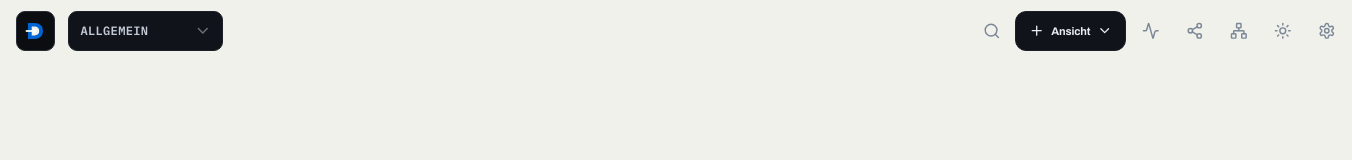
Test: GlobalSearch collapsible search bar › shows the scope filter only while the bar is expanded
Click the button with id "global-search-toggle" at [992, 31], box [972,11,1012,51]
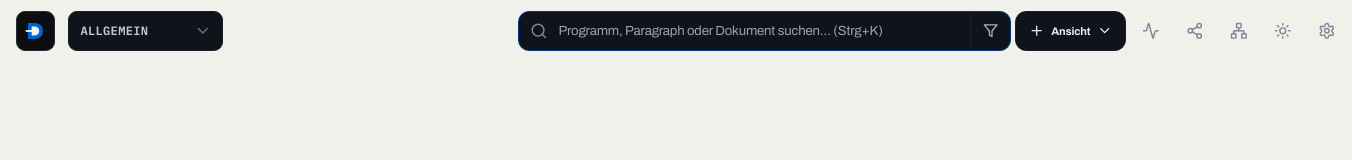
Check: the dropdown titled "globalSearch.filterTitle" is shown, box [970,11,1010,51]
